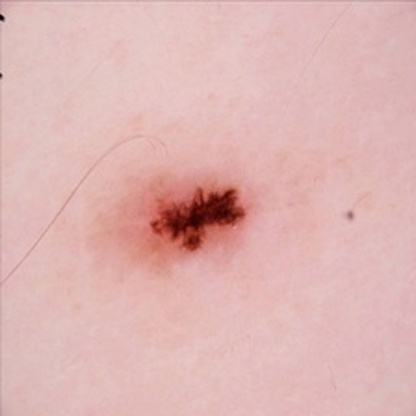benign: (149, 181, 249, 254)
